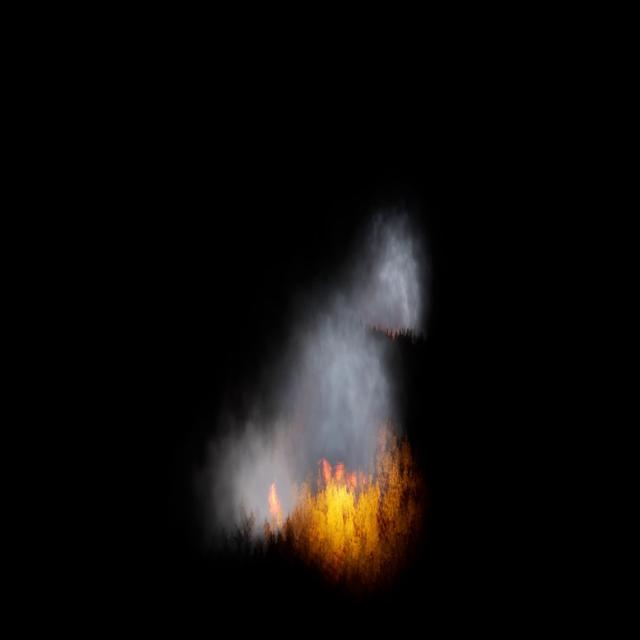fire: (266, 430, 416, 580)
smoke: (210, 207, 424, 554)
